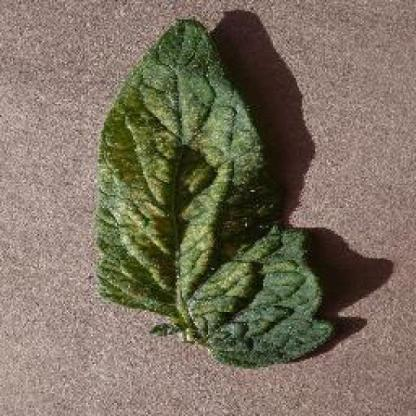Tomato_Spider_Mites: (98, 21, 333, 364)
